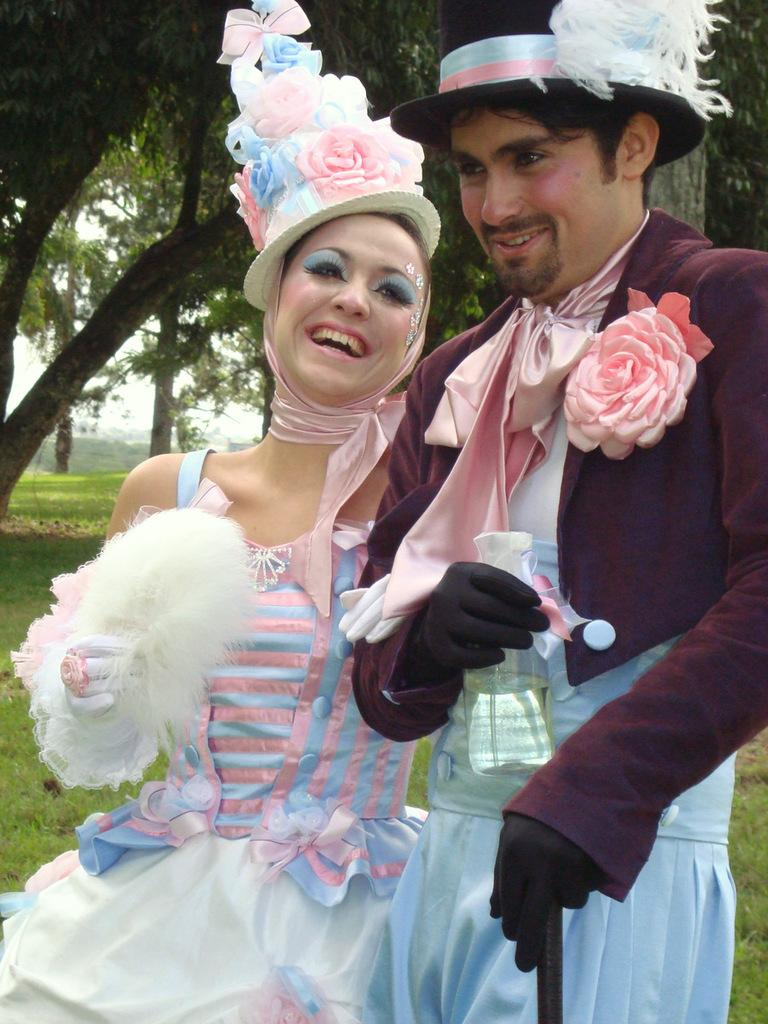Hat: (211, 0, 443, 314), (388, 0, 736, 176)
